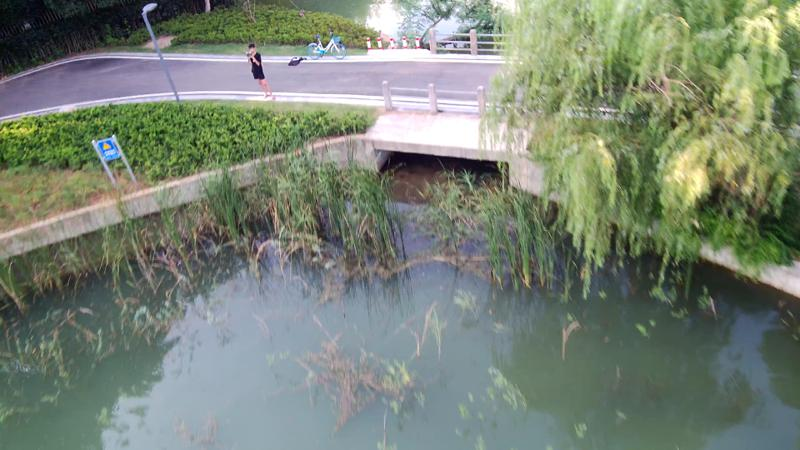passerby: (246, 42, 276, 100)
